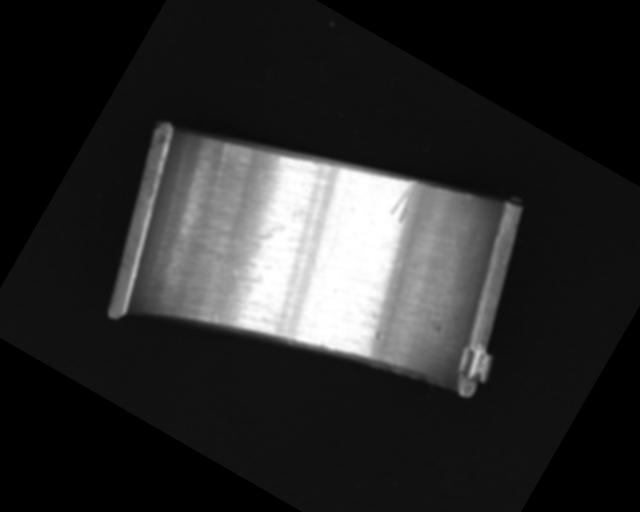bruise: (372, 329, 386, 343)
nick: (385, 176, 425, 225), (462, 191, 476, 207)
